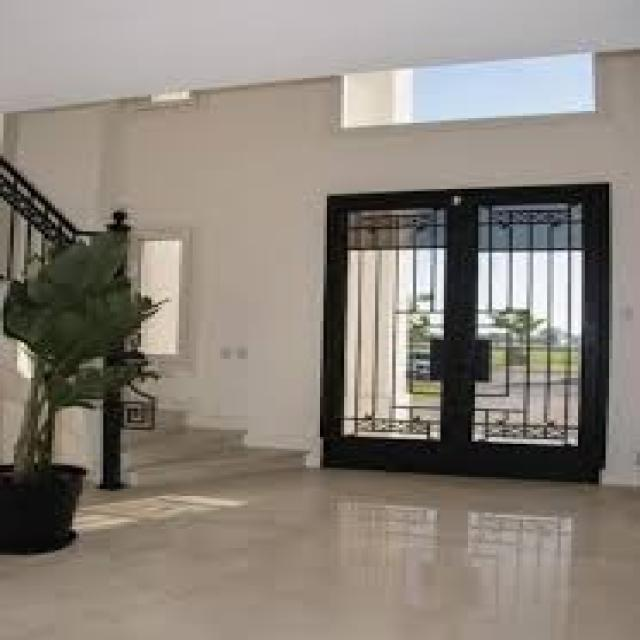door: (320, 182, 609, 482)
